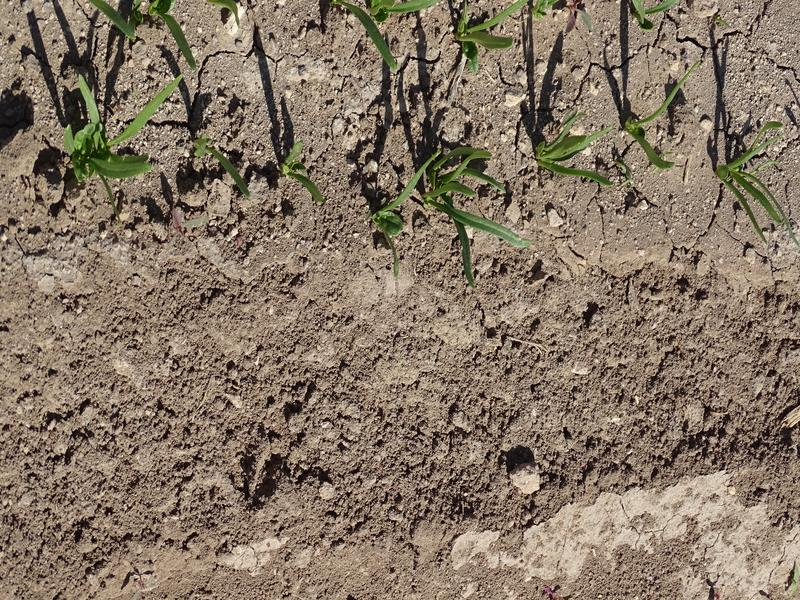Espinaca: (52, 74, 191, 189), (378, 144, 521, 246), (339, 4, 519, 71), (717, 127, 794, 244), (626, 59, 705, 165), (94, 1, 203, 68), (528, 114, 617, 187), (192, 138, 247, 194), (279, 141, 324, 202)
